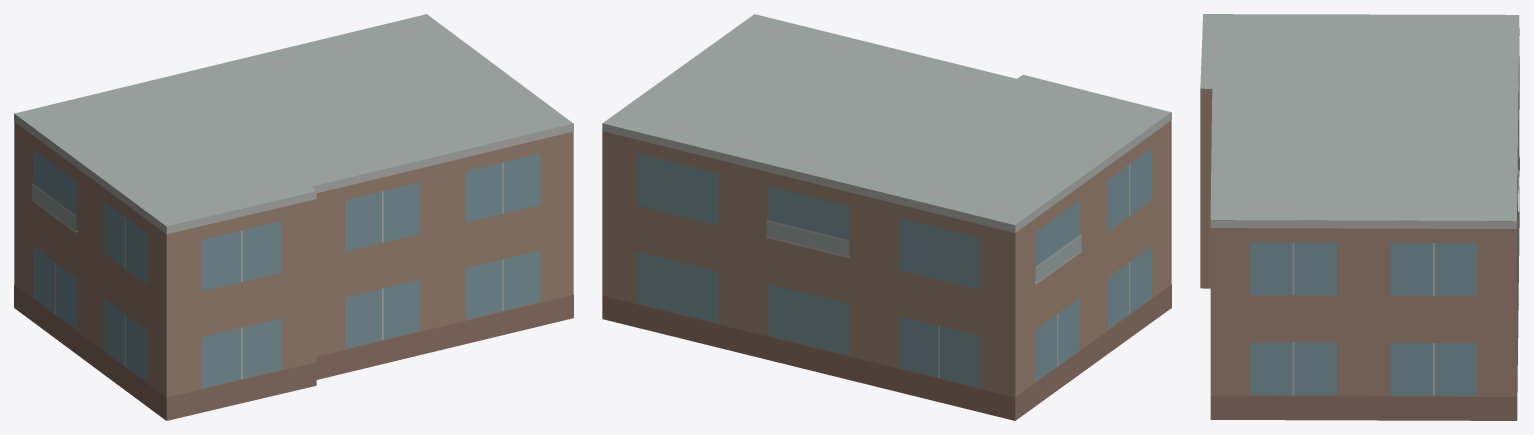
Rendered from survey-upis-32815556.glb.
The picture shows the model from 3 angles, left to right: view 1: azimuth 30°, elevation 25°; view 2: azimuth 150°, elevation 25°; view 3: azimuth 270°, elevation 25°; orthographic projection. The views are drawn at different scales.
Visible parts, largest first — view 1: survey-upis-32815556.tmp; view 2: survey-upis-32815556.tmp; view 3: survey-upis-32815556.tmp.
Boxes of the visible parts, x1=… form: survey-upis-32815556.tmp: x1=14, y1=14, x2=573, y2=420; survey-upis-32815556.tmp: x1=602, y1=14, x2=1171, y2=420; survey-upis-32815556.tmp: x1=1200, y1=14, x2=1519, y2=420.
Size of the model in its own units: 13.58 by 6.1 by 8.85.
